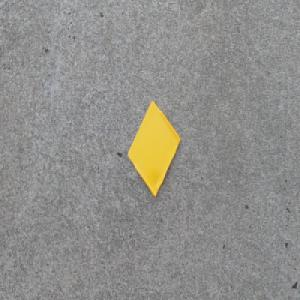PlasticPart: (127, 100, 181, 198)
